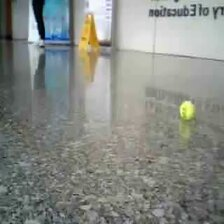tennis: (179, 101, 195, 121)
